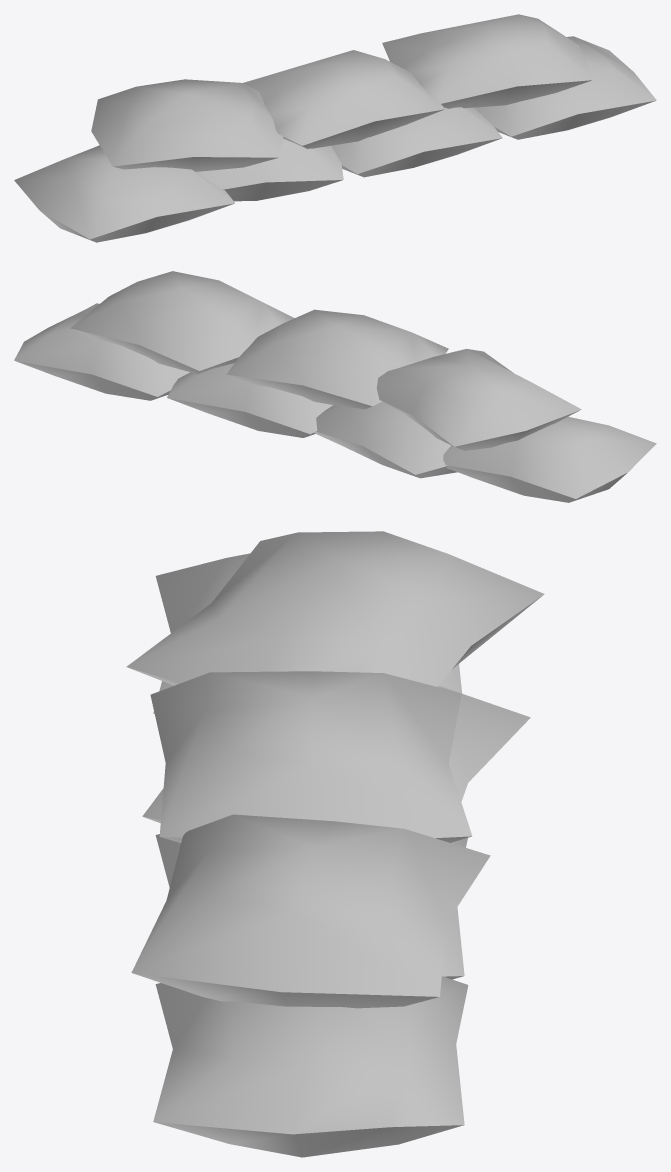
The model's file is Prfb_BagsTile.fbx.
3 views of the same model, one above another, from view 1: azimuth 30°, elevation 25°; view 2: azimuth 150°, elevation 25°; view 3: azimuth 270°, elevation 25° (orthographic). The views are drawn at different scales.
Visible parts, largest first — view 1: Mat_Bags_01_1 Character; view 2: Mat_Bags_01_1 Character; view 3: Mat_Bags_01_1 Character.
Boxes of the visible parts, bbox=[...] form: Mat_Bags_01_1 Character: bbox=[14, 14, 656, 242]; Mat_Bags_01_1 Character: bbox=[14, 271, 656, 502]; Mat_Bags_01_1 Character: bbox=[126, 531, 544, 1157].
Size of the model in its own units: 3.94 by 0.6531 by 1.22.
Materials: 1 (1 with a texture image).
